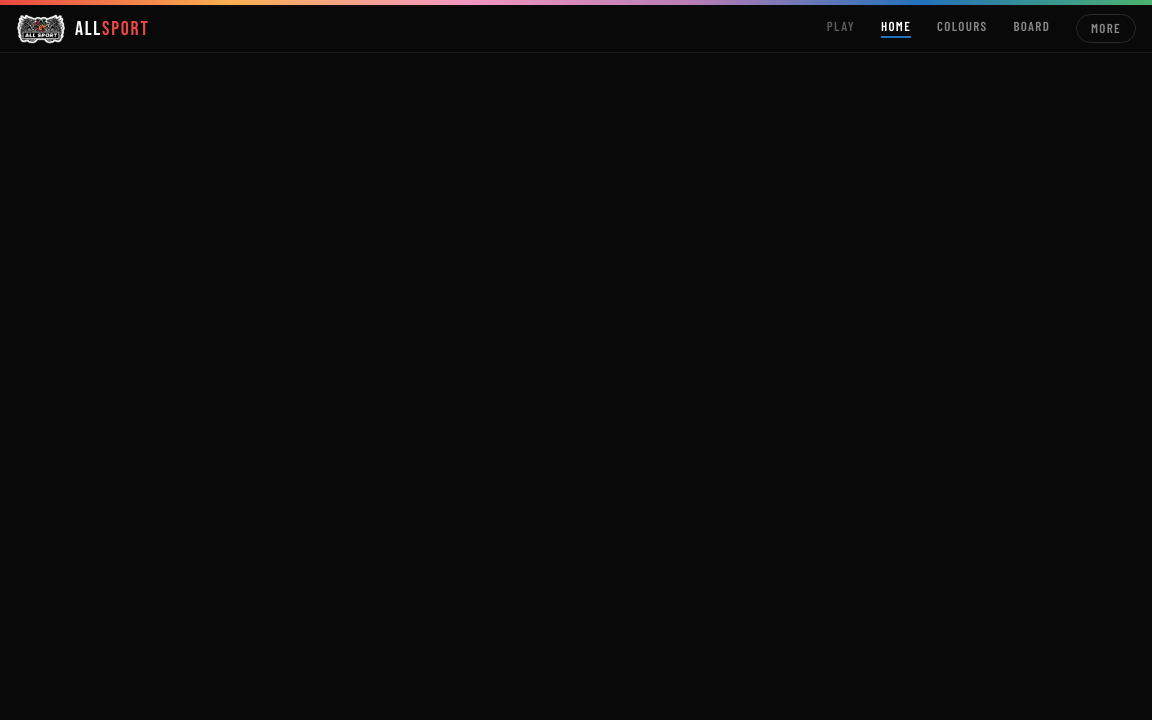
Scenario: desktop top bar › opens the same menu, so a laptop can sign out
Click the button "MORE" at (1106, 28), box [1076,14,1136,43]
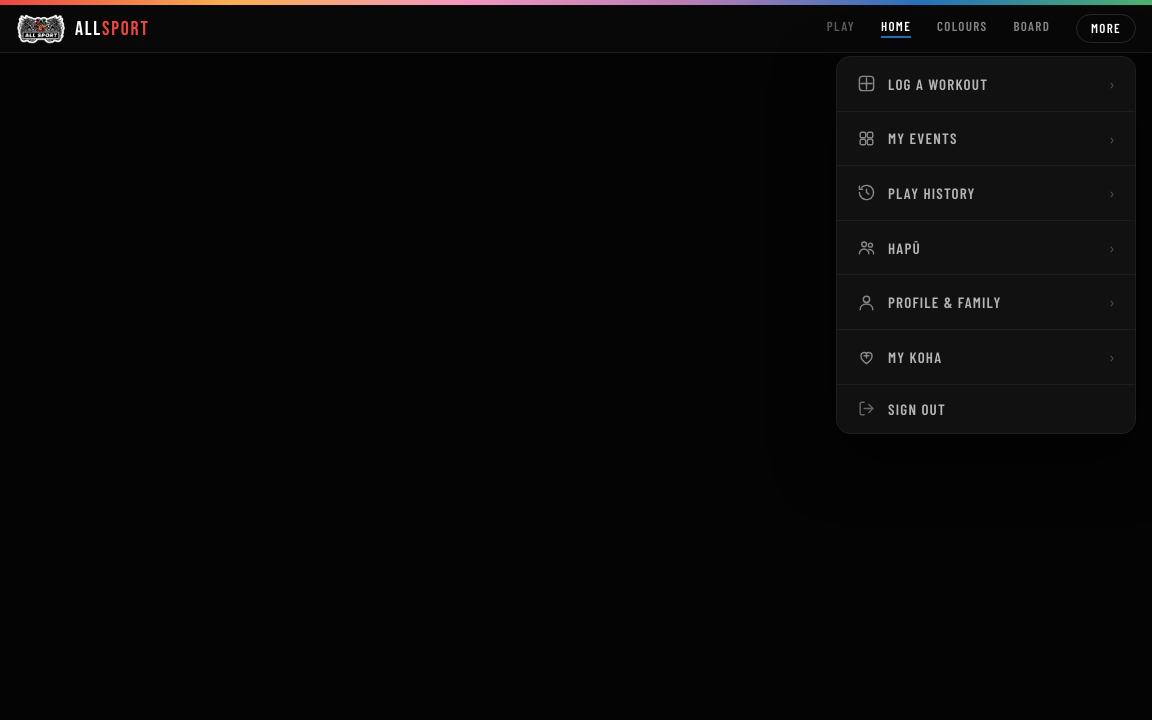
Result: the dialog shows "Sign out" at [837,385,1135,433]
Result: the dialog shows "Profile & family" at [837,275,1135,330]
